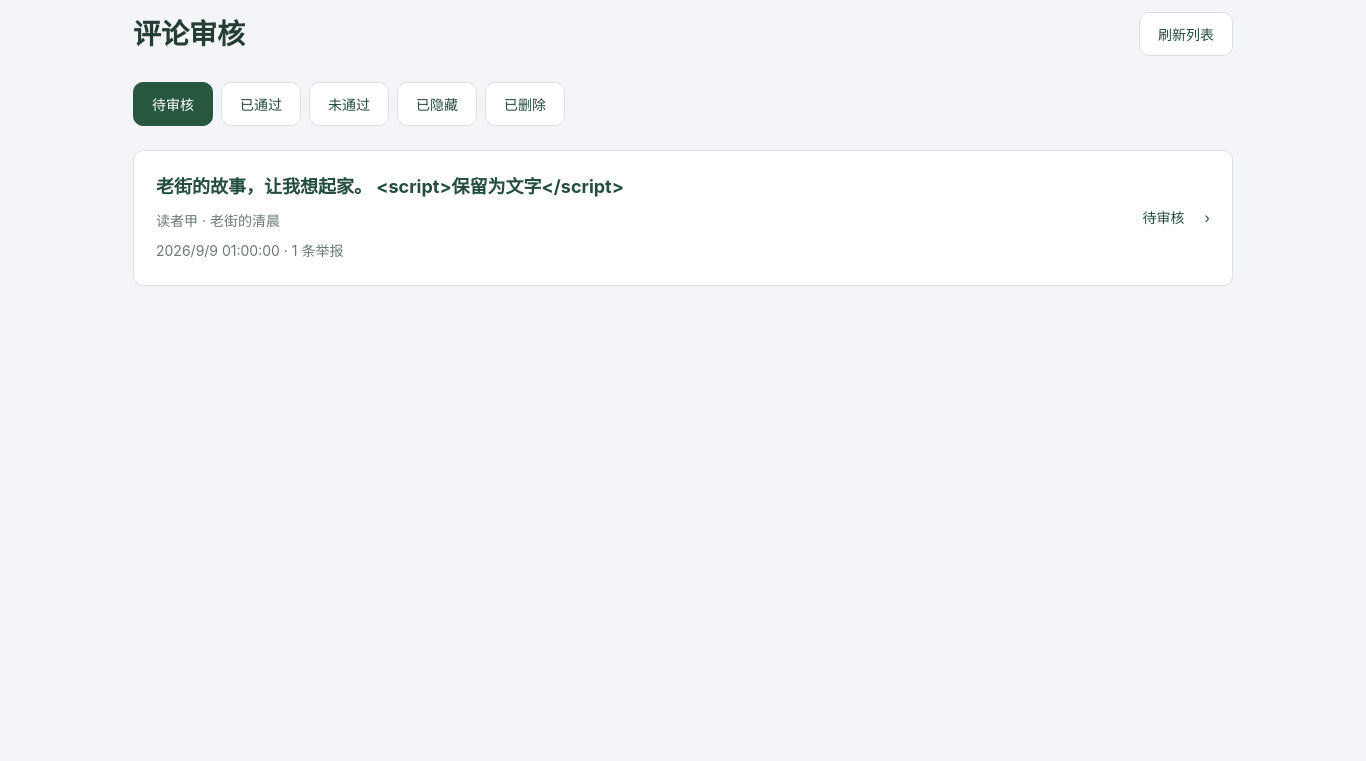
Test case: 未知审核结果仅重试相同操作 ID，不允许新审核或换筛选
This screenshot has width=1366, height=761.
Click the button "老街的故事": {"x": 390, "y": 186} left=133, top=150, right=1233, bottom=286
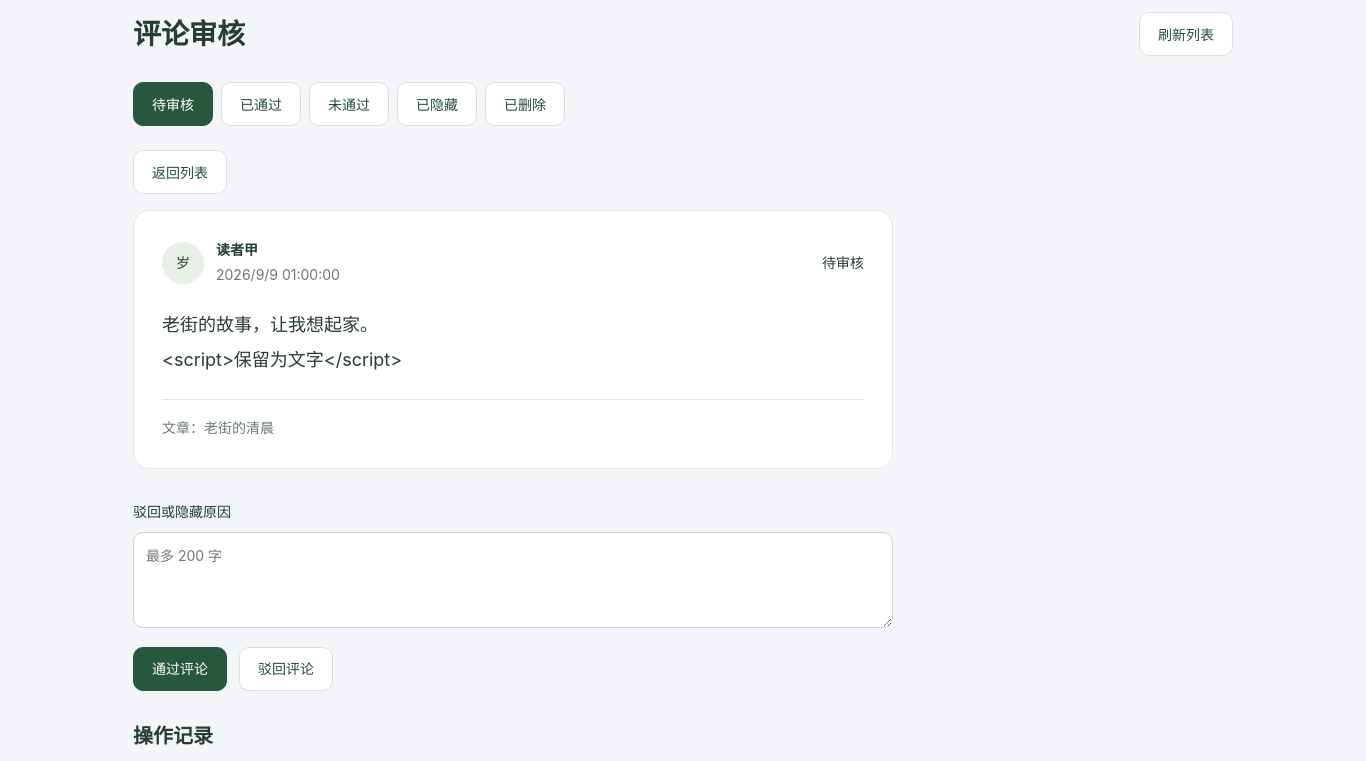
Check: the element named "评论详情" is shown, box left=133, top=210, right=893, bottom=469
Click the button "通过评论": {"x": 180, "y": 669} left=133, top=647, right=227, bottom=691
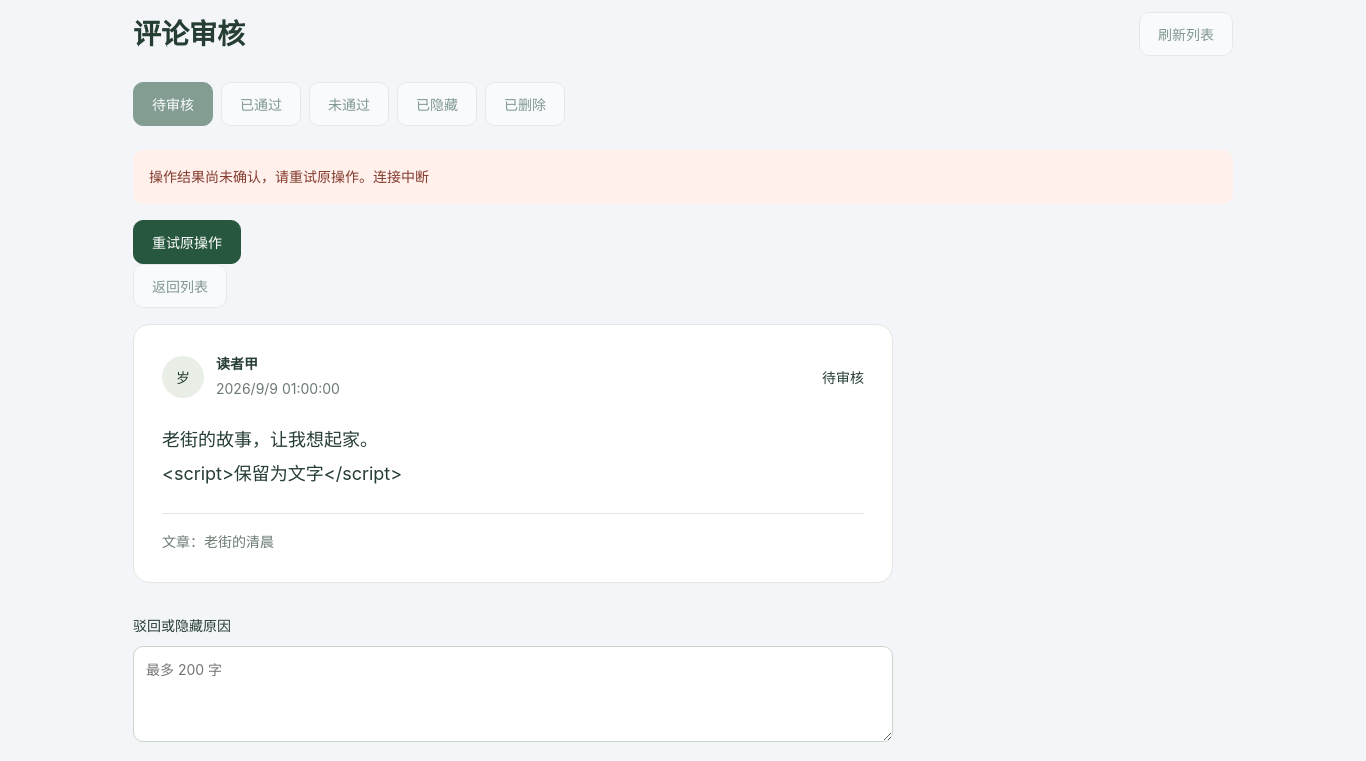
Check: the button "重试原操作" is enabled
Check: the tab "已通过" is disabled, box left=221, top=82, right=301, bottom=126
Click the button "重试原操作": {"x": 187, "y": 242} left=133, top=220, right=241, bottom=264
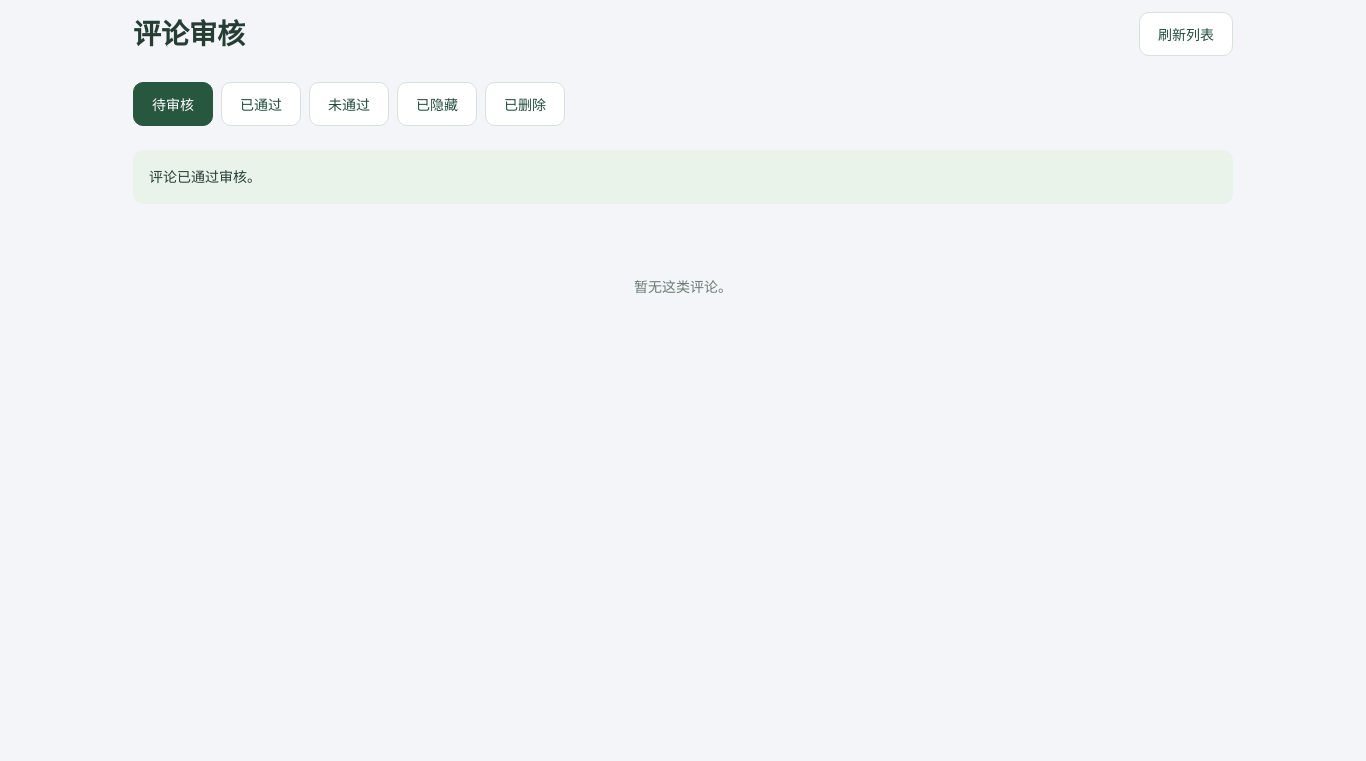
Check: the text "评论已通过审核。" is shown, box left=133, top=150, right=1233, bottom=204
